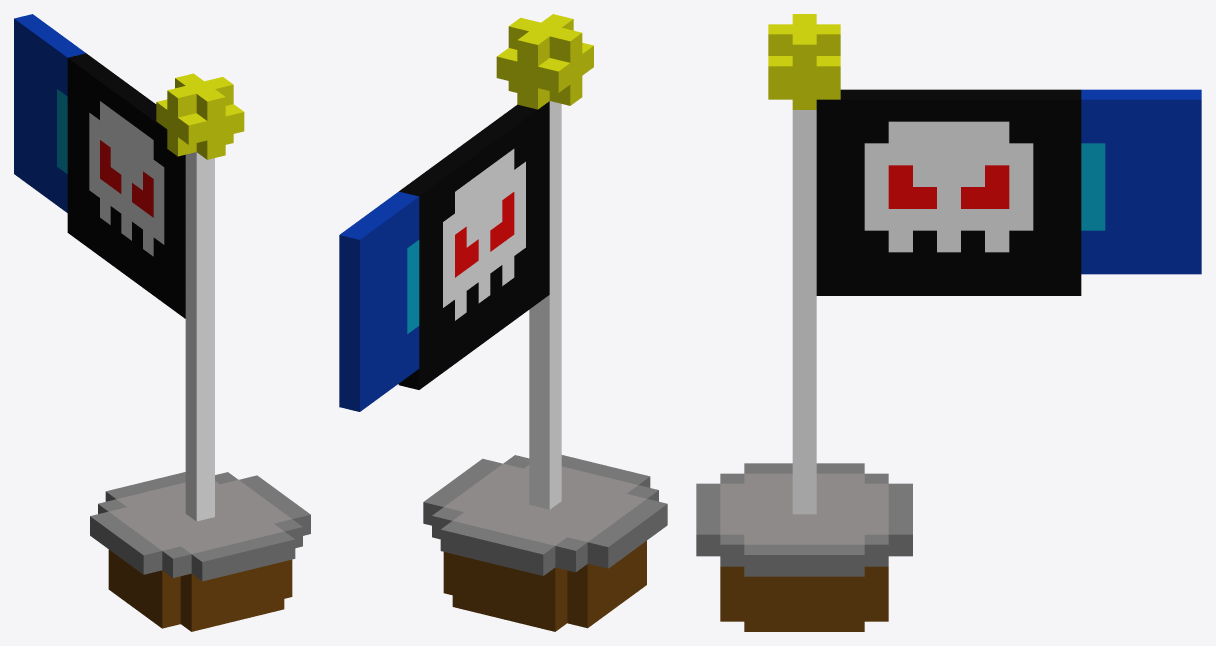
File: Flag.gltf
The picture shows the model from 3 angles, left to right: view 1: azimuth 30°, elevation 25°; view 2: azimuth 150°, elevation 25°; view 3: azimuth 270°, elevation 25°; orthographic projection. The views are drawn at different scales.
Parts seen in each view (by area): view 1: Layer.1, Layer.2, Layer.3; view 2: Layer.1, Layer.2, Layer.3; view 3: Layer.2, Layer.1, Layer.3.
Part boxes in pixels (left/top/right/bottom): Layer.1: left=90, top=73, right=310, bottom=631; Layer.2: left=67, top=53, right=185, bottom=318; Layer.3: left=14, top=14, right=85, bottom=212; Layer.1: left=423, top=14, right=667, bottom=631; Layer.2: left=398, top=101, right=549, bottom=389; Layer.3: left=339, top=191, right=419, bottom=411; Layer.2: left=816, top=89, right=1081, bottom=295; Layer.1: left=696, top=14, right=912, bottom=631; Layer.3: left=1081, top=89, right=1201, bottom=274.
Bounding box in the file's own units: 9 × 26 × 21.
1 material, 1 textured.
